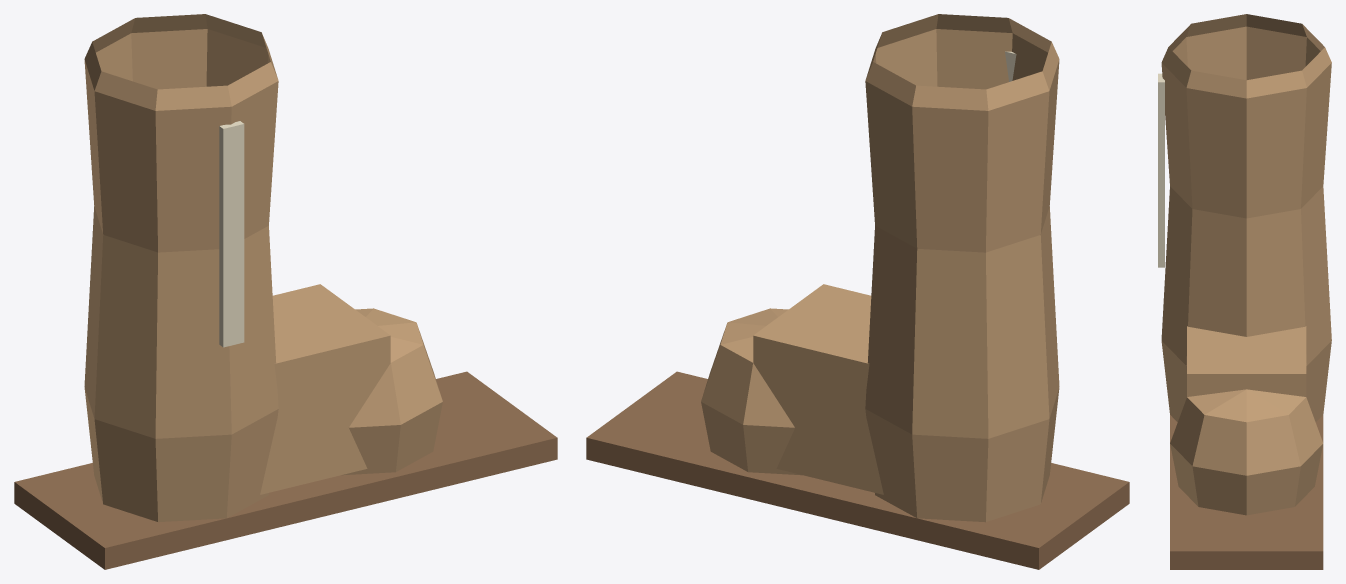
Rendered from prop-boot-unfinished.fbx.
3 renders of one model, left to right at view 1: azimuth 30°, elevation 25°; view 2: azimuth 150°, elevation 25°; view 3: azimuth 270°, elevation 25°, orthographic. The views are drawn at different scales.
Parts seen in each view (by area): view 1: prop-boot-unfinished; view 2: prop-boot-unfinished; view 3: prop-boot-unfinished.
Boxes of the visible parts, box(x1,y1,x2,y2) form: prop-boot-unfinished: box(14, 14, 557, 569); prop-boot-unfinished: box(586, 14, 1129, 569); prop-boot-unfinished: box(1158, 14, 1331, 569).
Size of the model in its own units: 26 by 25 by 10.2.
